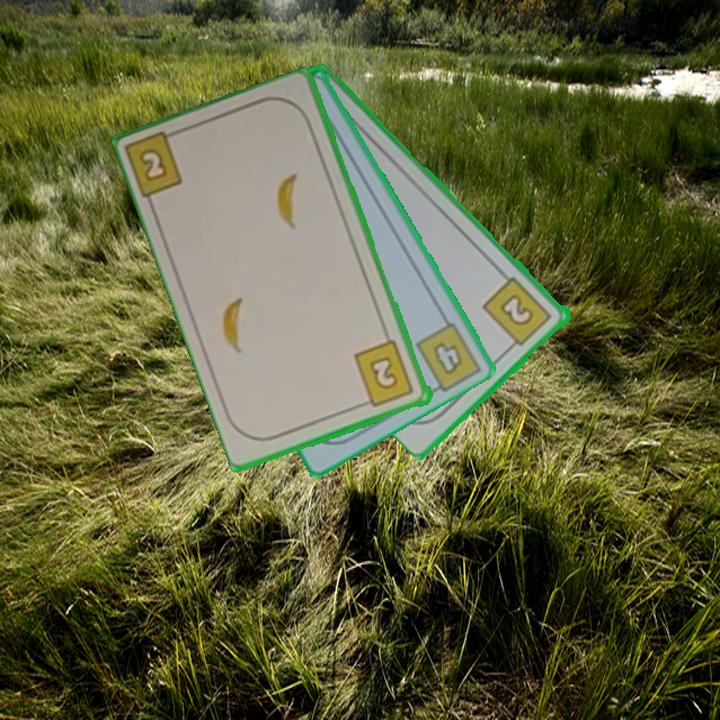2b: (479, 273, 555, 353), (124, 125, 187, 203), (350, 337, 417, 410)
4b: (429, 338, 467, 379)
